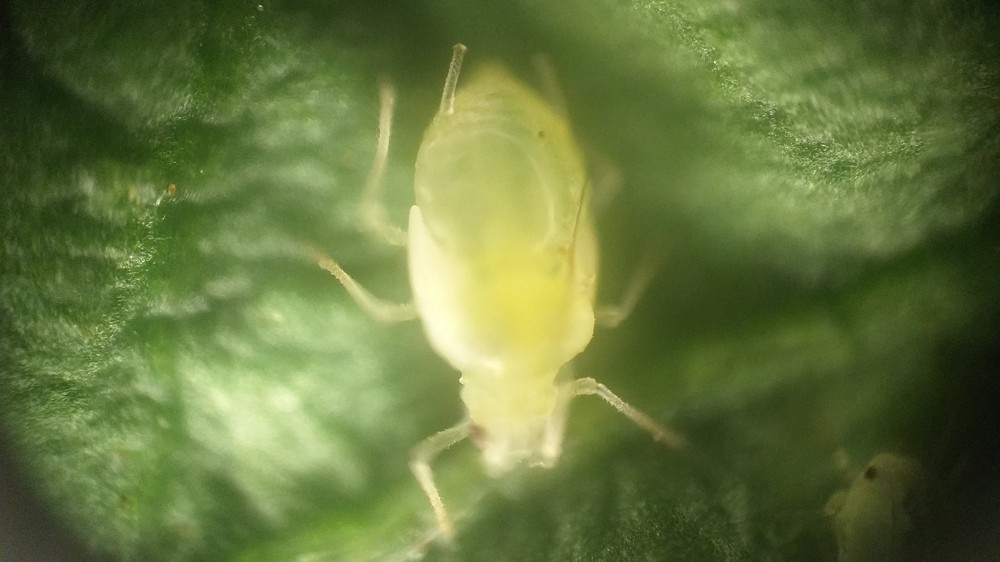Pulgon: (313, 48, 721, 548), (796, 427, 940, 562)
